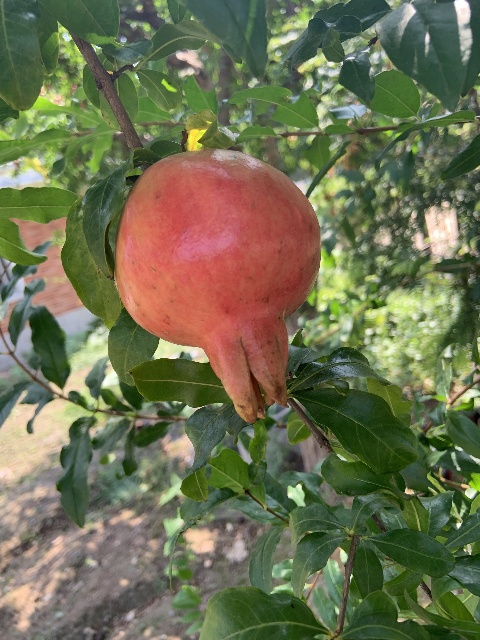ripe: (115, 149, 321, 421)
